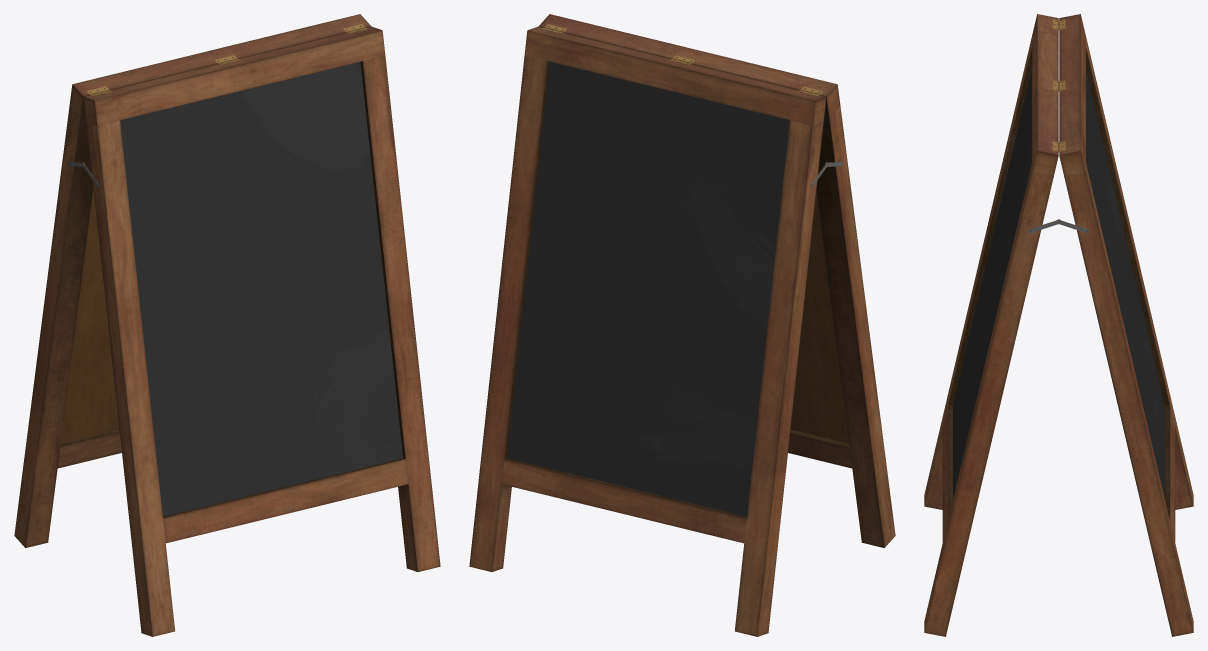
Rendered from standing_chalkboard_01.gltf.
The picture shows the model from 3 angles, left to right: view 1: azimuth 30°, elevation 25°; view 2: azimuth 150°, elevation 25°; view 3: azimuth 270°, elevation 25°; orthographic projection. The views are drawn at different scales.
Parts seen in each view (by area): view 1: standing_chalkboard_01; view 2: standing_chalkboard_01; view 3: standing_chalkboard_01.
Part boxes in pixels (x1=…): standing_chalkboard_01: x1=14, y1=14, x2=440, y2=636; standing_chalkboard_01: x1=469, y1=14, x2=895, y2=636; standing_chalkboard_01: x1=924, y1=14, x2=1193, y2=636.
Size of the model in its own units: 0.9195 by 1.51 by 0.7587.
Materials: 1 (1 with a texture image).
